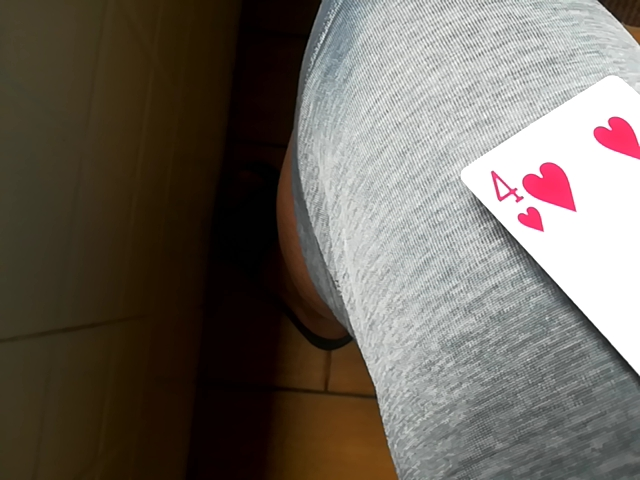hx 4: (455, 77, 635, 398)
